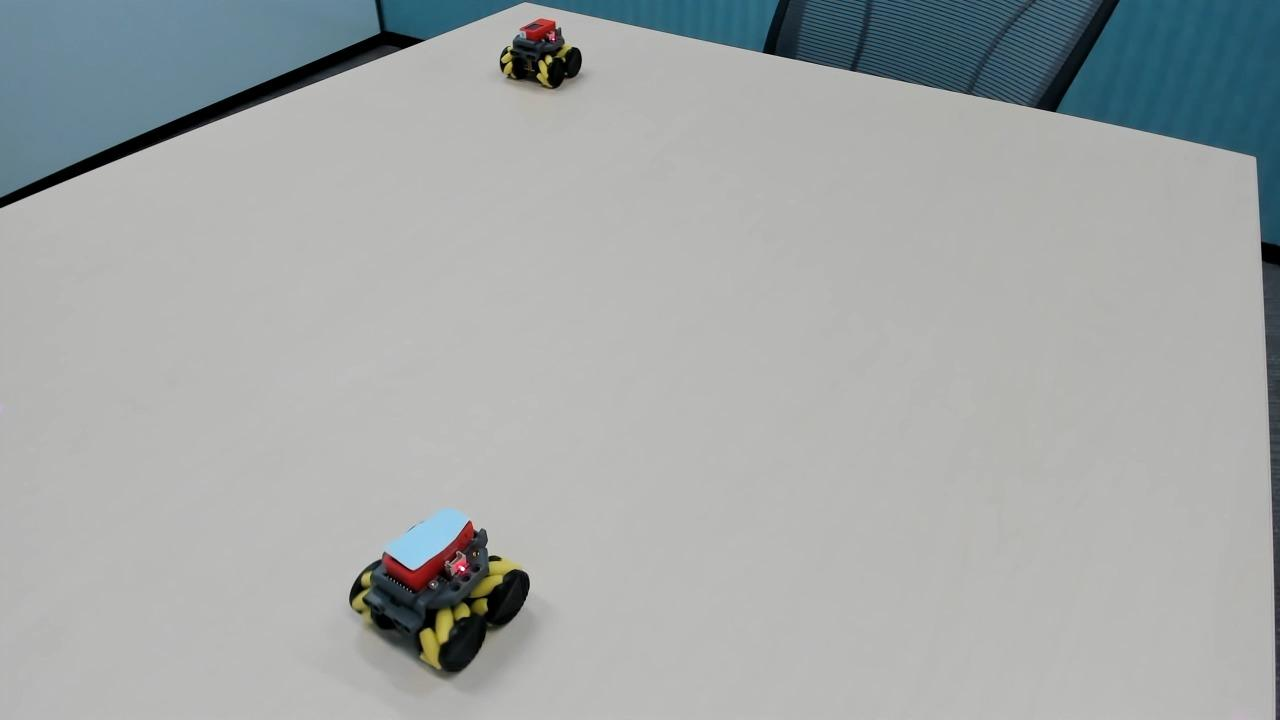B-Robot: (341, 495, 544, 679)
R-Robot: (490, 9, 594, 94)
